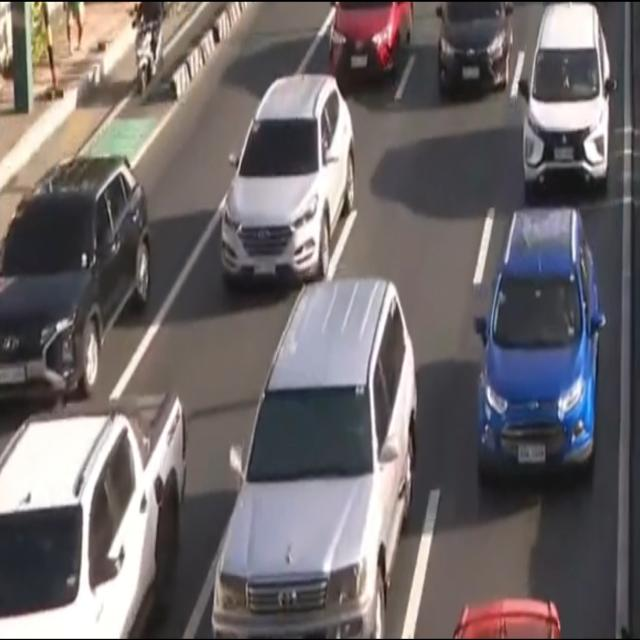Motorcycle: (130, 0, 168, 100)
SUV: (212, 281, 417, 640), (0, 388, 187, 640), (0, 156, 151, 403), (475, 209, 604, 475), (218, 71, 356, 291), (520, 4, 612, 188)
Sedan: (432, 0, 512, 95), (325, 0, 415, 81)
